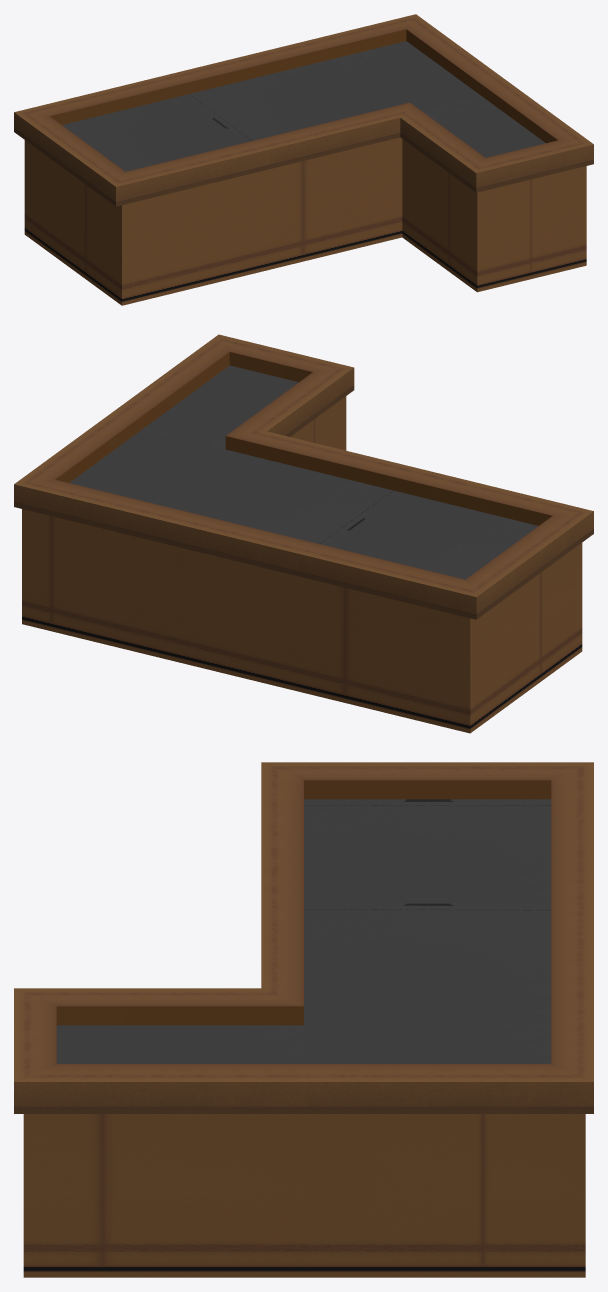
The model's file is ExteriorPart.fbx.
3 renders of one model, top to bottom at view 1: azimuth 30°, elevation 25°; view 2: azimuth 150°, elevation 25°; view 3: azimuth 270°, elevation 25°, orthographic. The views are drawn at different scales.
Parts seen in each view (by area): view 1: ExteriorPart; view 2: ExteriorPart; view 3: ExteriorPart.
Part boxes in pixels (x1,y1,x2,y2): ExteriorPart: [14, 14, 593, 305]; ExteriorPart: [14, 334, 593, 733]; ExteriorPart: [14, 762, 593, 1277].
Bounding box in the file's own units: 1548 × 450 × 1187.
